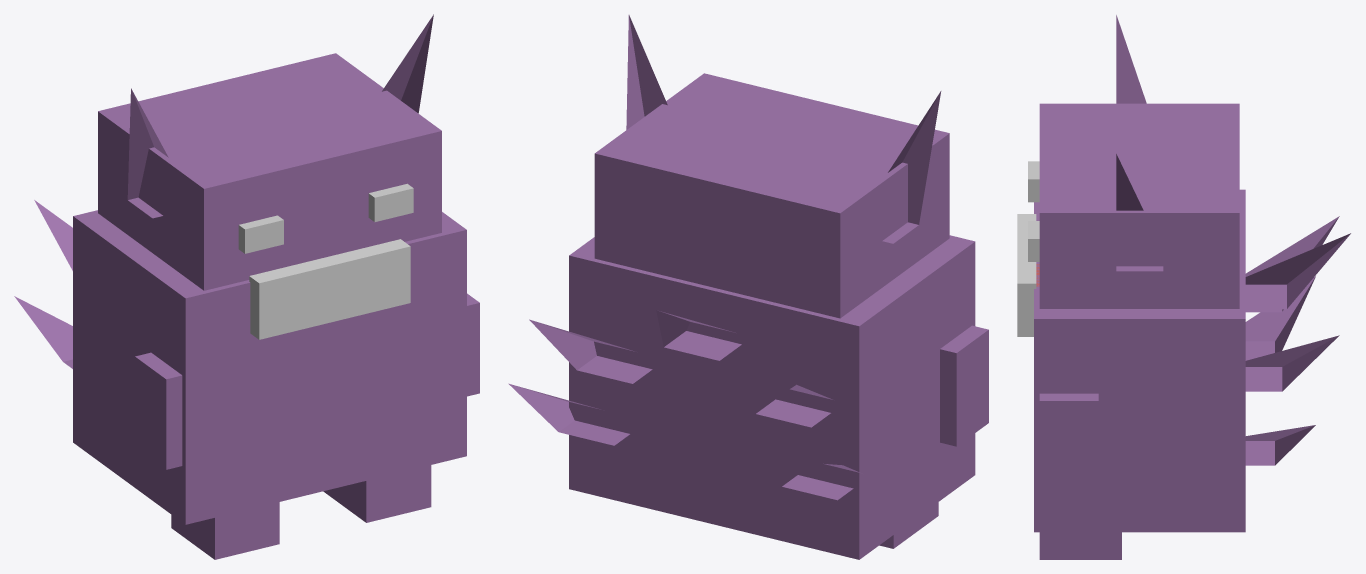
File: gengar.glb
3 renders of one model, left to right at view 1: azimuth 30°, elevation 25°; view 2: azimuth 150°, elevation 25°; view 3: azimuth 270°, elevation 25°, orthographic. The views are drawn at different scales.
Bounding box in the file's own units: 1.5 × 2 × 1.42.
